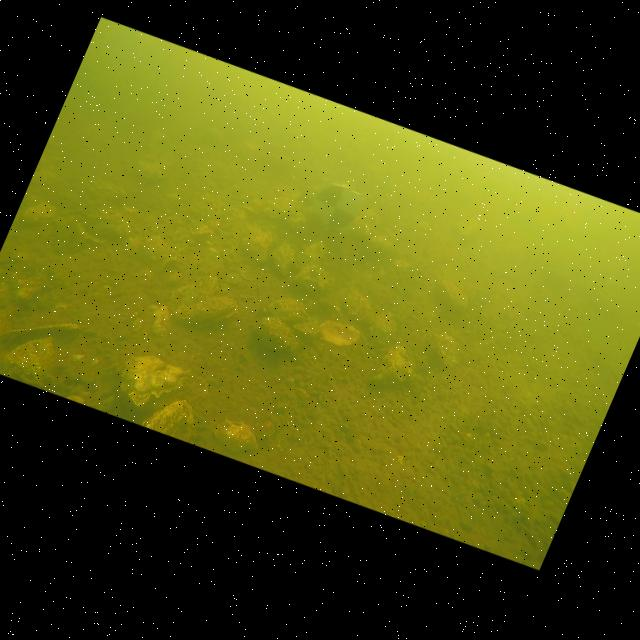Oyster-Closed: (119, 356, 195, 408), (142, 400, 194, 442), (170, 295, 239, 326), (373, 345, 413, 384), (253, 317, 298, 351), (85, 210, 132, 241), (214, 420, 258, 452), (242, 225, 273, 261), (144, 236, 180, 267), (264, 298, 307, 323), (435, 280, 468, 311), (293, 265, 329, 292), (345, 291, 374, 323), (368, 313, 396, 342), (434, 333, 457, 366), (272, 243, 295, 275), (301, 242, 326, 266)
Oyster-Indeterminate: (0, 336, 59, 393), (166, 275, 221, 307), (89, 179, 126, 203)
Oyster-Open: (319, 320, 360, 346)
